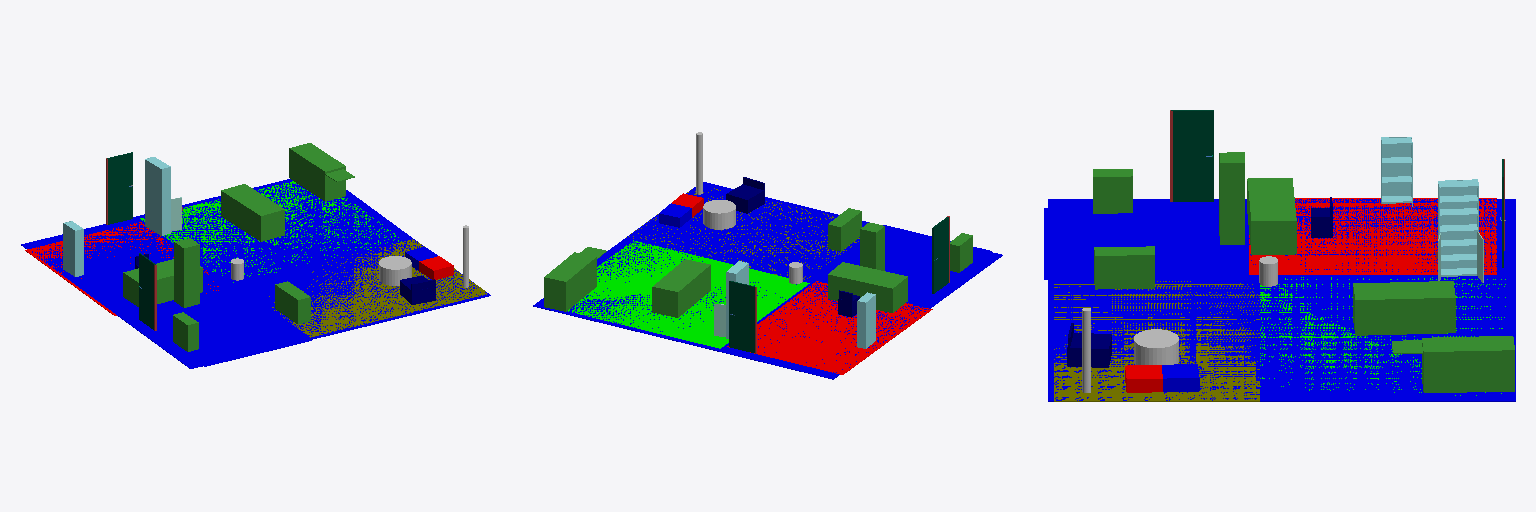
--- Facts derived from the render (not from the file) ---
3 views of the same robot in one strip: view 1: azimuth 30°, elevation 25°; view 2: azimuth 150°, elevation 25°; view 3: azimuth 270°, elevation 25° (orthographic).
Model iai-kitchen with 102 links and 101 joints (7 revolute, 94 fixed), rooted at urdf_main, posed all joints at 0.
Visible links, largest first — view 1: arena:arena:room_center_link, living_room:living_room:room_center_link, iai_kitchen:kitchen:room_center_link, dinner_table:dinner_table:table_center, kitchen_counter:kitchen_counter:table_center, coathanger:coathanger:coathanger_center, office:arena:door_center, desk:desk:table_center, office:office:room_center_link, tv_table:tv_table:table_center, shelf_hohc:kitchen_cabinet:shelf_back, iai_kitchen:arena:door_center (+6 smaller); view 2: arena:arena:room_center_link, iai_kitchen:kitchen:room_center_link, office:office:room_center_link, hallway:hallway:room_center_link, desk:desk:table_center, dinner_table:dinner_table:table_center, kitchen_counter:kitchen_counter:table_center, office:arena:door_center, iai_kitchen:arena:door_center, coathanger:coathanger:coathanger_center, tv_table:tv_table:table_center, coffee_table:coffee_table:table_center (+4 smaller); view 3: arena:arena:room_center_link, hallway:hallway:room_center_link, office:office:room_center_link, living_room:living_room:room_center_link, dinner_table:dinner_table:table_center, kitchen_counter:kitchen_counter:table_center, iai_kitchen:arena:door_center, desk:desk:table_center, tv_table:tv_table:table_center, coathanger:coathanger:coathanger_center, iai_kitchen:kitchen:room_center_link, hallway_cabinet:hallway_cabinet:table_center (+9 smaller).
Boxes of the visible links, x1,y1,x2,y2 form: arena:arena:room_center_link: (21, 179, 490, 368); living_room:living_room:room_center_link: (269, 239, 486, 337); iai_kitchen:kitchen:room_center_link: (140, 181, 401, 282); dinner_table:dinner_table:table_center: (221, 184, 284, 241); kitchen_counter:kitchen_counter:table_center: (289, 143, 345, 201); coathanger:coathanger:coathanger_center: (174, 238, 199, 307); office:arena:door_center: (107, 152, 132, 224); desk:desk:table_center: (123, 259, 202, 306); office:office:room_center_link: (25, 222, 218, 315); tv_table:tv_table:table_center: (275, 281, 310, 324); shelf_hohc:kitchen_cabinet:shelf_back: (145, 159, 161, 235); iai_kitchen:arena:door_center: (139, 253, 155, 329); arena:arena:room_center_link: (533, 182, 1002, 379); iai_kitchen:kitchen:room_center_link: (568, 240, 809, 348); office:office:room_center_link: (727, 281, 932, 374); hallway:hallway:room_center_link: (812, 225, 991, 303); desk:desk:table_center: (828, 262, 907, 312); dinner_table:dinner_table:table_center: (652, 259, 710, 317); kitchen_counter:kitchen_counter:table_center: (544, 252, 596, 311); office:arena:door_center: (729, 281, 754, 352); iai_kitchen:arena:door_center: (932, 217, 948, 293); coathanger:coathanger:coathanger_center: (860, 222, 884, 270); tv_table:tv_table:table_center: (828, 208, 861, 251); coffee_table:coffee_table:table_center: (703, 200, 735, 229); arena:arena:room_center_link: (1048, 199, 1515, 401); hallway:hallway:room_center_link: (1044, 208, 1244, 279); office:office:room_center_link: (1249, 198, 1496, 274); living_room:living_room:room_center_link: (1054, 281, 1259, 401); dinner_table:dinner_table:table_center: (1353, 281, 1455, 335); kitchen_counter:kitchen_counter:table_center: (1422, 336, 1514, 392); iai_kitchen:arena:door_center: (1171, 110, 1213, 201); desk:desk:table_center: (1247, 178, 1296, 254); tv_table:tv_table:table_center: (1094, 246, 1154, 289); coathanger:coathanger:coathanger_center: (1219, 152, 1244, 244); iai_kitchen:kitchen:room_center_link: (1260, 277, 1505, 395); hallway_cabinet:hallway_cabinet:table_center: (1093, 169, 1132, 213).
Size in the robot's own frame: 9.59 by 9.36 by 2.1 metres.
0 mesh visuals loaded from 3 distinct referenced files (none loaded); not drawn: 3 (reference not matched to a file when rendering).

The robot description file, URDF, robot "iai-kitchen":
<?xml version="1.0" ?>
<robot name="iai-kitchen" version="1.0">
  <material name="table_grey">
    <color rgba="0.255 0.62 0.223 1.0"/>
  </material>
  <material name="round_table_grey">
    <color rgba="0.8 0.8 0.8 1.0"/>
  </material>
  <material name="wall_pink">
    <color rgba="0.95 0.43 0.96 1.0"/>
  </material>
  <material name="shelf_blue">
    <color rgba="0.59 0.88 0.9 1.0"/>
  </material>
  <material name="shelf_door_green">
    <color rgba="0.64 0.87 0.82 1.0"/>
  </material>
  <material name="shelf_openable_handle_red">
    <color rgba="0.74 0.25 0.25 1.0"/>
  </material>
  <material name="shelf_hohc_handle_red">
    <color rgba="0.74 0.25 0.25 1.0"/>
  </material>
  <material name="door_green">
    <color rgba="0.0 0.31 0.22 1.0"/>
  </material>
  <material name="hinge_red">
    <color rgba="0.74 0.25 0.25 1.0"/>
  </material>
  <material name="handle_blue">
    <color rgba="0.3 0.5 0.78 1.0"/>
  </material>
  <material name="bucket_grey">
    <color rgba="0.8 0.8 0.8 1.0"/>
  </material>
  <material name="white">
    <color rgba="1.0 1.0 1.0 1.0"/>
  </material>
  <material name="orange">
    <color rgba="1.0 0.7 0.0 1.0"/>
  </material>
  <material name="handle_white">
    <color rgba="1.0 1.0 1.0 1.0"/>
  </material>
  <material name="bottom_white">
    <color rgba="1.0 1.0 1.0 1.0"/>
  </material>
  <material name="frame_wood">
    <color rgba="0.68 0.63 0.47 1.0"/>
  </material>
  <material name="handle_grey">
    <color rgba="0.7 0.7 0.7 1.0"/>
  </material>
  <material name="dishwasher_table_color">
    <color rgba="0.255 0.62 0.223 1.0"/>
  </material>
  <material name="dishwasher_robocup_table_color">
    <color rgba="0.255 0.62 0.223 1.0"/>
  </material>
  <material name="color_grey">
    <color rgba="0.8 0.8 0.8 1.0"/>
  </material>
  <material name="color_red">
    <color rgba="1.0 0.0 0.0 1.0"/>
  </material>
  <material name="color_blue">
    <color rgba="0.0 0.0 1.0 1.0"/>
  </material>
  <material name="simple_couch_color_grey">
    <color rgba="0.8 0.8 0.8 1.0"/>
  </material>
  <material name="simple_couch_color_red">
    <color rgba="1.0 0.0 0.0 1.0"/>
  </material>
  <material name="simple_couch_color_blue">
    <color rgba="0.0 0.0 1.0 1.0"/>
  </material>
  <material name="trashcan_color">
    <color rgba="0.8 0.8 0.8 1.0"/>
  </material>
  <material name="chair_color">
    <color rgba="0.0 0.0 0.5 1.0"/>
  </material>
  <material name="coathanger_color">
    <color rgba="0.255 0.62 0.223 1.0"/>
  </material>
  <material name="lamp_color">
    <color rgba="0.8 0.8 0.8 1.0"/>
  </material>
  <link name="tv_table:tv_table:table_center">
    <inertial>
      <origin xyz="0.0 0.0 0.0" rpy="0.0 0.0 0.0"/>
      <mass value="1.0"/>
      <inertia ixx="0.1" ixy="0.0" ixz="0.0" iyy="0.1" iyz="0.0" izz="0.1"/>
    </inertial>
    <visual>
      <origin xyz="0.0 0.0 -0.369" rpy="0.0 0.0 0.0"/>
      <geometry>
        <box size="0.412 1.2 0.738"/>
      </geometry>
      <material name="table_grey"/>
    </visual>
    <collision>
      <origin xyz="0.0 0.0 -0.369" rpy="0.0 0.0 0.0"/>
      <geometry>
        <box size="0.412 1.2 0.738"/>
      </geometry>
    </collision>
  </link>
  <link name="tv_table:tv_table:table_origin"/>
  <link name="tv_table:tv_table:table_front_edge_center"/>
  <joint name="tv_table:tv_table:table_origin_joint" type="fixed">
    <origin xyz="5.96 -0.24 0.0" rpy="0.0 0.0 3.17"/>
    <parent link="urdf_offset"/>
    <child link="tv_table:tv_table:table_origin"/>
  </joint>
  <joint name="tv_table:tv_table:center_joint" type="fixed">
    <origin xyz="0.206 0.6 0.738" rpy="0.0 0.0 0.0"/>
    <parent link="tv_table:tv_table:table_origin"/>
    <child link="tv_table:tv_table:table_center"/>
  </joint>
  <joint name="tv_table:tv_table:table_front_edge_center_joint" type="fixed">
    <origin xyz="0.0 0.6 0.738" rpy="0.0 0.0 0.0"/>
    <parent link="tv_table:tv_table:table_origin"/>
    <child link="tv_table:tv_table:table_front_edge_center"/>
  </joint>
  <link name="hallway_cabinet:hallway_cabinet:table_center">
    <inertial>
      <origin xyz="0.0 0.0 0.0" rpy="0.0 0.0 0.0"/>
      <mass value="1.0"/>
      <inertia ixx="0.1" ixy="0.0" ixz="0.0" iyy="0.1" iyz="0.0" izz="0.1"/>
    </inertial>
    <visual>
      <origin xyz="0.0 0.0 -0.404" rpy="0.0 0.0 0.0"/>
      <geometry>
        <box size="0.3503 0.795 0.808"/>
      </geometry>
      <material name="table_grey"/>
    </visual>
    <collision>
      <origin xyz="0.0 0.0 -0.404" rpy="0.0 0.0 0.0"/>
      <geometry>
        <box size="0.3503 0.795 0.808"/>
      </geometry>
    </collision>
  </link>
  <link name="hallway_cabinet:hallway_cabinet:table_origin"/>
  <link name="hallway_cabinet:hallway_cabinet:table_front_edge_center"/>
  <joint name="hallway_cabinet:hallway_cabinet:table_origin_joint" type="fixed">
    <origin xyz="2.41 -0.675 0.0" rpy="0.0 0.0 3.17"/>
    <parent link="urdf_offset"/>
    <child link="hallway_cabinet:hallway_cabinet:table_origin"/>
  </joint>
  <joint name="hallway_cabinet:hallway_cabinet:center_joint" type="fixed">
    <origin xyz="0.17515 0.3975 0.808" rpy="0.0 0.0 0.0"/>
    <parent link="hallway_cabinet:hallway_cabinet:table_origin"/>
    <child link="hallway_cabinet:hallway_cabinet:table_center"/>
  </joint>
  <joint name="hallway_cabinet:hallway_cabinet:table_front_edge_center_joint" type="fixed">
    <origin xyz="0.0 0.3975 0.808" rpy="0.0 0.0 0.0"/>
    <parent link="hallway_cabinet:hallway_cabinet:table_origin"/>
    <child link="hallway_cabinet:hallway_cabinet:table_front_edge_center"/>
  </joint>
  <link name="desk:desk:table_center">
    <inertial>
      <origin xyz="0.0 0.0 0.0" rpy="0.0 0.0 0.0"/>
      <mass value="1.0"/>
      <inertia ixx="0.1" ixy="0.0" ixz="0.0" iyy="0.1" iyz="0.0" izz="0.1"/>
    </inertial>
    <visual>
      <origin xyz="0.0 0.0 -0.3715" rpy="0.0 0.0 0.0"/>
      <geometry>
        <box size="0.901 2.017 0.743"/>
      </geometry>
      <material name="table_grey"/>
    </visual>
    <collision>
      <origin xyz="0.0 0.0 -0.3715" rpy="0.0 0.0 0.0"/>
      <geometry>
        <box size="0.901 2.017 0.743"/>
      </geometry>
    </collision>
  </link>
  <link name="desk:desk:table_origin"/>
  <link name="desk:desk:table_front_edge_center"/>
  <joint name="desk:desk:table_origin_joint" type="fixed">
    <origin xyz="2.33 2.49 0.0" rpy="0.0 0.0 -1.53"/>
    <parent link="urdf_offset"/>
    <child link="desk:desk:table_origin"/>
  </joint>
  <joint name="desk:desk:center_joint" type="fixed">
    <origin xyz="0.4505 1.0085 0.743" rpy="0.0 0.0 0.0"/>
    <parent link="desk:desk:table_origin"/>
    <child link="desk:desk:table_center"/>
  </joint>
  <joint name="desk:desk:table_front_edge_center_joint" type="fixed">
    <origin xyz="0.0 1.0085 0.743" rpy="0.0 0.0 0.0"/>
    <parent link="desk:desk:table_origin"/>
    <child link="desk:desk:table_front_edge_center"/>
  </joint>
  <link name="dinner_table:dinner_table:table_center">
    <inertial>
      <origin xyz="0.0 0.0 0.0" rpy="0.0 0.0 0.0"/>
      <mass value="1.0"/>
      <inertia ixx="0.1" ixy="0.0" ixz="0.0" iyy="0.1" iyz="0.0" izz="0.1"/>
    </inertial>
    <visual>
      <origin xyz="0.0 0.0 -0.39" rpy="0.0 0.0 0.0"/>
      <geometry>
        <box size="0.792 2.0 0.78"/>
      </geometry>
      <material name="table_grey"/>
    </visual>
    <collision>
      <origin xyz="0.0 0.0 -0.39" rpy="0.0 0.0 0.0"/>
      <geometry>
        <box size="0.792 2.0 0.78"/>
      </geometry>
    </collision>
  </link>
  <link name="dinner_table:dinner_table:table_origin"/>
  <link name="dinner_table:dinner_table:table_front_edge_center"/>
  <joint name="dinner_table:dinner_table:table_origin_joint" type="fixed">
    <origin xyz="7.38 3.69 0.0" rpy="0.0 0.0 0.06"/>
    <parent link="urdf_offset"/>
    <child link="dinner_table:dinner_table:table_origin"/>
  </joint>
  <joint name="dinner_table:dinner_table:center_joint" type="fixed">
    <origin xyz="0.396 1.0 0.78" rpy="0.0 0.0 0.0"/>
    <parent link="dinner_table:dinner_table:table_origin"/>
    <child link="dinner_table:dinner_table:table_center"/>
  </joint>
  <joint name="dinner_table:dinner_table:table_front_edge_center_joint" type="fixed">
    <origin xyz="0.0 1.0 0.78" rpy="0.0 0.0 0.0"/>
    <parent link="dinner_table:dinner_table:table_origin"/>
    <child link="dinner_table:dinner_table:table_front_edge_center"/>
  </joint>
  <link name="kitchen_counter:kitchen_counter:table_center">
    <inertial>
      <origin xyz="0.0 0.0 0.0" rpy="0.0 0.0 0.0"/>
      <mass value="1.0"/>
      <inertia ixx="0.1" ixy="0.0" ixz="0.0" iyy="0.1" iyz="0.0" izz="0.1"/>
    </inertial>
    <visual>
      <origin xyz="0.0 0.0 -0.4525" rpy="0.0 0.0 0.0"/>
      <geometry>
        <box size="0.68 1.82 0.905"/>
      </geometry>
      <material name="table_grey"/>
    </visual>
    <collision>
      <origin xyz="0.0 0.0 -0.4525" rpy="0.0 0.0 0.0"/>
      <geometry>
        <box size="0.68 1.82 0.905"/>
      </geometry>
    </collision>
  </link>
  <link name="kitchen_counter:kitchen_counter:table_origin"/>
  <link name="kitchen_counter:kitchen_counter:table_front_edge_center"/>
  <joint name="kitchen_counter:kitchen_counter:table_origin_joint" type="fixed">
    <origin xyz="10.2 5.06 0.0" rpy="0.0 0.0 0.05"/>
    <parent link="urdf_offset"/>
    <child link="kitchen_counter:kitchen_counter:table_origin"/>
  </joint>
  <joint name="kitchen_counter:kitchen_counter:center_joint" type="fixed">
    <origin xyz="0.34 0.91 0.905" rpy="0.0 0.0 0.0"/>
    <parent link="kitchen_counter:kitchen_counter:table_origin"/>
    <child link="kitchen_counter:kitchen_counter:table_center"/>
  </joint>
  <joint name="kitchen_counter:kitchen_counter:table_front_edge_center_joint" type="fixed">
    <origin xyz="0.0 0.91 0.905" rpy="0.0 0.0 0.0"/>
    <parent link="kitchen_counter:kitchen_counter:table_origin"/>
    <child link="kitchen_counter:kitchen_counter:table_front_edge_center"/>
  </joint>
  <link name="suturo_couch:couch:place1"/>
  <link name="suturo_couch:couch:place2">
    <inertial>
      <origin xyz="0.0 0.0 0.0" rpy="0.0 0.0 0.0"/>
      <mass value="1.0"/>
      <inertia ixx="0.1" ixy="0.0" ixz="0.0" iyy="0.1" iyz="0.0" izz="0.1"/>
    </inertial>
    <visual>
      <origin xyz="0.0 0.0 0.0" rpy="0.0 0.0 0.0"/>
      <geometry>
        <box size="0.65 0.725 0.3"/>
      </geometry>
      <material name="color_red"/>
    </visual>
    <collision>
      <origin xyz="0.0 0.0 0.0" rpy="0.0 0.0 0.0"/>
      <geometry>
        <box size="0.65 0.725 0.3"/>
      </geometry>
    </collision>
  </link>
  <link name="suturo_couch:couch:place3">
    <inertial>
      <origin xyz="0.0 0.0 0.0" rpy="0.0 0.0 0.0"/>
      <mass value="1.0"/>
      <inertia ixx="0.1" ixy="0.0" ixz="0.0" iyy="0.1" iyz="0.0" izz="0.1"/>
    </inertial>
    <visual>
      <origin xyz="0.0 0.0 0.0" rpy="0.0 0.0 0.0"/>
      <geometry>
        <box size="0.65 0.725 0.3"/>
      </geometry>
      <material name="color_blue"/>
    </visual>
    <collision>
      <origin xyz="0.0 0.0 0.0" rpy="0.0 0.0 0.0"/>
      <geometry>
        <box size="0.65 0.725 0.3"/>
      </geometry>
    </collision>
  </link>
  <joint name="suturo_couch:couch:couch_origin_joint" type="fixed">
    <origin xyz="10.5 -0.1 0.0" rpy="0.0 0.0 0.05"/>
    <parent link="urdf_offset"/>
    <child link="suturo_couch:couch:place1"/>
  </joint>
  <joint name="suturo_couch:couch:couch_left_joint" type="fixed">
    <origin xyz="0.0 -0.3625 0.15" rpy="0.0 0.0 0.0"/>
    <parent link="suturo_couch:couch:place1"/>
    <child link="suturo_couch:couch:place2"/>
  </joint>
  <joint name="suturo_couch:couch:couch_right_joint" type="fixed">
    <origin xyz="0.0 0.3625 0.15" rpy="0.0 0.0 0.0"/>
    <parent link="suturo_couch:couch:place1"/>
    <child link="suturo_couch:couch:place3"/>
  </joint>
  <link name="coffee_table:coffee_table:table_center">
    <inertial>
      <origin xyz="0.0 0.0 0.0" rpy="0.0 0.0 0.0"/>
      <mass value="1.0"/>
      <inertia ixx="0.1" ixy="0.0" ixz="0.0" iyy="0.1" iyz="0.0" izz="0.1"/>
    </inertial>
    <visual>
      <origin xyz="0.0 0.0 -0.245" rpy="0.0 0.0 0.0"/>
      <geometry>
        <cylinder radius="0.45" length="0.49"/>
      </geometry>
      <material name="round_table_grey"/>
    </visual>
    <collision>
      <origin xyz="0.0 0.0 -0.245" rpy="0.0 0.0 0.0"/>
      <geometry>
        <cylinder radius="0.45" length="0.49"/>
      </geometry>
    </collision>
  </link>
  <link name="coffee_table:coffee_table:table_origin"/>
  <link name="coffee_table:coffee_table:table_front_edge_center"/>
  <joint name="coffee_table:coffee_table:table_origin_joint" type="fixed">
    <origin xyz="8.91 -0.24 0.0" rpy="0.0 0.0 0.05"/>
    <parent link="urdf_offset"/>
    <child link="coffee_table:coffee_table:table_origin"/>
  </joint>
  <joint name="coffee_table:coffee_table:center_joint" type="fixed">
    <origin xyz="0.45 0.0 0.49" rpy="0.0 0.0 0.0"/>
    <parent link="coffee_table:coffee_table:table_origin"/>
    <child link="coffee_table:coffee_table:table_center"/>
  </joint>
  <joint name="coffee_table:coffee_table:table_front_edge_center_joint" type="fixed">
    <origin xyz="0.0 0.0 0.49" rpy="0.0 0.0 0.0"/>
    <parent link="coffee_table:coffee_table:table_origin"/>
    <child link="coffee_table:coffee_table:table_front_edge_center"/>
  </joint>
  <link name="shelf:shelf:shelf_origin"/>
  <link name="shelf:shelf:shelf_center"/>
  <link name="shelf:shelf:shelf_base_center"/>
  <joint name="shelf:shelf:shelf_origin_joint" type="fixed">
    <origin xyz="2.09 4.87 0.0" rpy="0.0 0.0 3.2"/>
    <parent link="urdf_offset"/>
    <child link="shelf:shelf:shelf_origin"/>
  </joint>
  <joint name="shelf:shelf:shelf_center_joint" type="fixed">
    <origin xyz="0.1375 0.3 0.7" rpy="0.0 0.0 0.0"/>
    <parent link="shelf:shelf:shelf_origin"/>
    <child link="shelf:shelf:shelf_center"/>
  </joint>
  <joint name="shelf:shelf:shelf_base_center_joint" type="fixed">
    <origin xyz="0.1375 0.3 0.0" rpy="0.0 0.0 0.0"/>
    <parent link="shelf:shelf:shelf_origin"/>
    <child link="shelf:shelf:shelf_base_center"/>
  </joint>
  <link name="shelf:shelf:shelf_back">
    <inertial>
      <origin xyz="0.0 0.0 0.0" rpy="0.0 0.0 0.0"/>
      <mass value="1.0"/>
      <inertia ixx="0.1" ixy="0.0" ixz="0.0" iyy="0.1" iyz="0.0" izz="0.1"/>
    </inertial>
    <visual>
      <origin xyz="0.0 0.0 0.0" rpy="0.0 0.0 0.0"/>
      <geometry>
        <box size="0.01 0.6 1.4"/>
      </geometry>
      <material name="shelf_blue"/>
    </visual>
    <collision>
      <origin xyz="0.0 0.0 0.0" rpy="0.0 0.0 0.0"/>
      <geometry>
        <box size="0.01 0.6 1.4"/>
      </geometry>
    </collision>
  </link>
  <joint name="shelf:shelf:shelf_back:joint" type="fixed">
    <origin xyz="0.275 0.3 0.7" rpy="0.0 0.0 0.0"/>
    <parent link="shelf:shelf:shelf_origin"/>
    <child link="shelf:shelf:shelf_back"/>
  </joint>
  <link name="shelf:shelf:shelf_right_side">
    <inertial>
      <origin xyz="0.0 0.0 0.0" rpy="0.0 0.0 0.0"/>
      <mass value="1.0"/>
      <inertia ixx="0.1" ixy="0.0" ixz="0.0" iyy="0.1" iyz="0.0" izz="0.1"/>
    </inertial>
    <visual>
      <origin xyz="0.0 0.0 0.0" rpy="0.0 0.0 0.0"/>
      <geometry>
        <box size="0.275 0.01 1.4"/>
      </geometry>
      <material name="shelf_blue"/>
    </visual>
    <collision>
      <origin xyz="0.0 0.0 0.0" rpy="0.0 0.0 0.0"/>
      <geometry>
        <box size="0.275 0.01 1.4"/>
      </geometry>
    </collision>
  </link>
  <joint name="shelf:shelf:shelf_right_side:joint" type="fixed">
    <origin xyz="0.1375 0.0 0.7" rpy="0.0 0.0 0.0"/>
    <parent link="shelf:shelf:shelf_origin"/>
    <child link="shelf:shelf:shelf_right_side"/>
  </joint>
  <link name="shelf:shelf:shelf_left_side">
    <inertial>
      <origin xyz="0.0 0.0 0.0" rpy="0.0 0.0 0.0"/>
      <mass value="1.0"/>
      <inertia ixx="0.1" ixy="0.0" ixz="0.0" iyy="0.1" iyz="0.0" izz="0.1"/>
    </inertial>
    <visual>
      <origin xyz="0.0 0.0 0.0" rpy="0.0 0.0 0.0"/>
      <geometry>
        <box size="0.275 0.01 1.4"/>
      </geometry>
      <material name="shelf_blue"/>
    </visual>
    <collision>
      <origin xyz="0.0 0.0 0.0" rpy="0.0 0.0 0.0"/>
      <geometry>
        <box size="0.275 0.01 1.4"/>
      </geometry>
    </collision>
  </link>
  <joint name="shelf:shelf:shelf_left_side:joint" type="fixed">
    <origin xyz="0.1375 0.6 0.7" rpy="0.0 0.0 0.0"/>
    <parent link="shelf:shelf:shelf_origin"/>
    <child link="shelf:shelf:shelf_left_side"/>
  </joint>
  <link name="shelf:shelf:shelf_floor_0">
    <inertial>
      <origin xyz="0.0 0.0 0.0" rpy="0.0 0.0 0.0"/>
      <mass value="1.0"/>
      <inertia ixx="0.1" ixy="0.0" ixz="0.0" iyy="0.1" iyz="0.0" izz="0.1"/>
    </inertial>
    <visual>
      <origin xyz="0.0 0.0 -0.02" rpy="0.0 0.0 0.0"/>
      <geometry>
        <box size="0.275 0.6 0.04"/>
      </geometry>
      <material name="shelf_blue"/>
    </visual>
    <collision>
      <origin xyz="0.0 0.0 -0.02" rpy="0.0 0.0 0.0"/>
      <geometry>
        <box size="0.275 0.6 0.04"/>
      </geometry>
    </collision>
  </link>
  <joint name="shelf:shelf:shelf_floor_0:joint" type="fixed">
    <origin xyz="0.0 0.0 0.115" rpy="0.0 0.0 0.0"/>
    <parent link="shelf:shelf:shelf_base_center"/>
    <child link="shelf:shelf:shelf_floor_0"/>
  </joint>
  <link name="shelf:shelf:shelf_floor_1">
    <inertial>
      <origin xyz="0.0 0.0 0.0" rpy="0.0 0.0 0.0"/>
      <mass value="1.0"/>
      <inertia ixx="0.1" ixy="0.0" ixz="0.0" iyy="0.1" iyz="0.0" izz="0.1"/>
    </inertial>
    <visual>
      <origin xyz="0.0 0.0 -0.02" rpy="0.0 0.0 0.0"/>
      <geometry>
        <box size="0.275 0.6 0.04"/>
      </geometry>
      <material name="shelf_blue"/>
    </visual>
    <collision>
      <origin xyz="0.0 0.0 -0.02" rpy="0.0 0.0 0.0"/>
      <geometry>
        <box size="0.275 0.6 0.04"/>
      </geometry>
    </collision>
  </link>
  <joint name="shelf:shelf:shelf_floor_1:joint" type="fixed">
    <origin xyz="0.0 0.0 0.54" rpy="0.0 0.0 0.0"/>
    <parent link="shelf:shelf:shelf_base_center"/>
    <child link="shelf:shelf:shelf_floor_1"/>
  </joint>
  <link name="shelf:shelf:shelf_floor_2">
    <inertial>
      <origin xyz="0.0 0.0 0.0" rpy="0.0 0.0 0.0"/>
      <mass value="1.0"/>
      <inertia ixx="0.1" ixy="0.0" ixz="0.0" iyy="0.1" iyz="0.0" izz="0.1"/>
    </inertial>
    <visual>
      <origin xyz="0.0 0.0 -0.02" rpy="0.0 0.0 0.0"/>
      <geometry>
        <box size="0.275 0.6 0.04"/>
      </geometry>
      <material name="shelf_blue"/>
    </visual>
    <collision>
      <origin xyz="0.0 0.0 -0.02" rpy="0.0 0.0 0.0"/>
      <geometry>
        <box size="0.275 0.6 0.04"/>
      </geometry>
    </collision>
  </link>
  <joint name="shelf:shelf:shelf_floor_2:joint" type="fixed">
    <origin xyz="0.0 0.0 0.96" rpy="0.0 0.0 0.0"/>
    <parent link="shelf:shelf:shelf_base_center"/>
    <child link="shelf:shelf:shelf_floor_2"/>
  </joint>
  <link name="shelf:shelf:shelf_floor_3">
    <inertial>
      <origin xyz="0.0 0.0 0.0" rpy="0.0 0.0 0.0"/>
      <mass value="1.0"/>
      <inertia ixx="0.1" ixy="0.0" ixz="0.0" iyy="0.1" iyz="0.0" izz="0.1"/>
    </inertial>
    <visual>
      <origin xyz="0.0 0.0 -0.02" rpy="0.0 0.0 0.0"/>
      <geometry>
        <box size="0.275 0.6 0.04"/>
      </geometry>
      <material name="shelf_blue"/>
    </visual>
    <collision>
      <origin xyz="0.0 0.0 -0.02" rpy="0.0 0.0 0.0"/>
      <geometry>
        <box size="0.275 0.6 0.04"/>
      </geometry>
    </collision>
  </link>
  <joint name="shelf:shelf:shelf_floor_3:joint" type="fixed">
    <origin xyz="0.0 0.0 1.39" rpy="0.0 0.0 0.0"/>
    <parent link="shelf:shelf:shelf_base_center"/>
    <child link="shelf:shelf:shelf_floor_3"/>
  </joint>
  <joint name="world_hallway:hallway:room_joint" type="fixed">
    <origin xyz="3.75 -0.446 -0.05" rpy="0.0 0.0 0.0"/>
    <parent link="urdf_offset"/>
    <child link="hallway:hallway:room_center_link"/>
  </joint>
  <link name="hallway:hallway:room_center_link">
    <inertial>
      <origin xyz="0.0 0.0 0.0" rpy="0.0 0.0 0.0"/>
      <mass value="1.0"/>
      <inertia ixx="0.1" ixy="0.0" ixz="0.0" iyy="0.1" iyz="0.0" izz="0.1"/>
    </inertial>
    <visual>
      <geometry>
        <box size="3.39 3.99 0.01"/>
      </geometry>
      <material name="hallway:hallway:color">
        <color rgba="0.0 0.0 1.0 0.1"/>
      </material>
    </visual>
    <collision>
      <geometry>
        <box size="3.39 3.99 0.01"/>
      </geometry>
    </collision>
  </link>
  <joint name="room_hallway_entry:entry:connection_joint" type="fixed">
    <origin xyz="-1.3399999999999999 0.946 0.0" rpy="0.0 0.0 0.0"/>
    <parent link="hallway:hallway:room_center_link"/>
    <child link="hallway_entry:entry:link"/>
  </joint>
  <link name="hallway_entry:entry:link"/>
  <joint name="room_hallway_living_room_exit:exit:connection_joint" type="fixed">
    <origin xyz="1.7800000000000002 0.666 0.0" rpy="0.0 0.0 0.0"/>
    <parent link="hallway:hallway:room_center_link"/>
    <child link="hallway_living_room_exit:exit:link"/>
  </joint>
  <link name="hallway_living_room_exit:exit:link"/>
  <joint name="room_hallway_office_exit:exit:connection_joint" type="fixed">
    <origin xyz="1.17 2.106 0.0" rpy="0.0 0.0 0.0"/>
    <parent link="hallway:hallway:room_center_link"/>
    <child link="hallway_office_exit:exit:link"/>
  </joint>
  <link name="hallway_office_exit:exit:link"/>
  <joint name="world_living_room:living_room:room_joint" type="fixed">
    <origin xyz="8.33 -0.2 -0.05" rpy="0.0 0.0 0.0"/>
    <parent link="urdf_offset"/>
    <child link="living_room:living_room:room_center_link"/>
  </joint>
  <link name="living_room:living_room:room_center_link">
    <inertial>
      <origin xyz="0.0 0.0 0.0" rpy="0.0 0.0 0.0"/>
      <mass value="1.0"/>
      <inertia ixx="0.1" ixy="0.0" ixz="0.0" iyy="0.1" iyz="0.0" izz="0.1"/>
    </inertial>
    <visual>
      <geometry>
        <box size="5.65 4.1 0.01"/>
      </geometry>
      <material name="living_room:living_room:color">
        <color rgba="0.5 0.5 0.0 0.1"/>
      </material>
    </visual>
    <collision>
      <geometry>
        <box size="5.65 4.1 0.01"/>
      </geometry>
    </collision>
  </link>
  <joint name="room_living_room_hallway_entry_exit:entry_exit:connection_joint" type="fixed">
    <origin xyz="-2.8 0.42000000000000004 0.0" rpy="0.0 0.0 0.0"/>
    <parent link="living_room:living_room:room_center_link"/>
    <child link="living_room_hallway_entry_exit:entry_exit:link"/>
  </joint>
  <link name="living_room_hallway_entry_exit:entry_exit:link"/>
  <joint name="room_living_room_kitchen_entry_exit:entry_exit:connection_joint" type="fixed">
    <origin xyz="0.4800000000000004 2.1 0.0" rpy="0.0 0.0 0.0"/>
    <parent link="living_room:living_room:room_center_link"/>
    <child link="living_room_kitchen_entry_exit:entry_exit:link"/>
  </joint>
  <link name="living_room_kitchen_entry_exit:entry_exit:link"/>
  <joint name="world_iai_kitchen:kitchen:room_joint" type="fixed">
    <origin xyz="8.1 4.3 -0.05" rpy="0.0 0.0 0.0"/>
    <parent link="urdf_offset"/>
    <child link="iai_kitchen:kitchen:room_center_link"/>
  </joint>
  <link name="iai_kitchen:kitchen:room_center_link">
    <inertial>
      <origin xyz="0.0 0.0 0.0" rpy="0.0 0.0 0.0"/>
      <mass value="1.0"/>
      <inertia ixx="0.1" ixy="0.0" ixz="0.0" iyy="0.1" iyz="0.0" izz="0.1"/>
    </inertial>
    <visual>
      <geometry>
        <box size="5.57 4.9 0.01"/>
      </geometry>
      <material name="iai_kitchen:kitchen:color">
        <color rgba="0.0 1.0 0.0 0.1"/>
      </material>
    </visual>
    <collision>
      <geometry>
        <box size="5.57 4.9 0.01"/>
      </geometry>
    </collision>
  </link>
  <joint name="room_kitchen_living_room_entry_exit:entry_exit:connection_joint" type="fixed">
    <origin xyz="0.7100000000000009 -4.08 0.0" rpy="0.0 0.0 0.0"/>
    <parent link="iai_kitchen:kitchen:room_center_link"/>
    <child link="kitchen_living_room_entry_exit:entry_exit:link"/>
  </joint>
  <link name="kitchen_living_room_entry_exit:entry_exit:link"/>
  <joint name="room_kitchen_office_entry_exit:entry_exit:connection_joint" type="fixed">
    <origin xyz="-2.76 -0.7199999999999998 0.0" rpy="0.0 0.0 0.0"/>
    <parent link="iai_kitchen:kitchen:room_center_link"/>
    <child link="kitchen_office_entry_exit:entry_exit:link"/>
  </joint>
  <link name="kitchen_office_entry_exit:entry_exit:link"/>
  <joint name="world_office:office:room_joint" type="fixed">
    <origin xyz="3.4 4.09 -0.05" rpy="0.0 0.0 0.0"/>
    <parent link="urdf_offset"/>
    <child link="office:office:room_center_link"/>
  </joint>
  <link name="office:office:room_center_link">
    <inertial>
      <origin xyz="0.0 0.0 0.0" rpy="0.0 0.0 0.0"/>
      <mass value="1.0"/>
      <inertia ixx="0.1" ixy="0.0" ixz="0.0" iyy="0.1" iyz="0.0" izz="0.1"/>
    </inertial>
    <visual>
      <geometry>
        <box size="3.66 4.92 0.01"/>
      </geometry>
      <material name="office:office:color">
        <color rgba="1.0 0.0 0.0 0.1"/>
      </material>
    </visual>
    <collision>
      <geometry>
        <box size="3.66 4.92 0.01"/>
      </geometry>
    </collision>
  </link>
  <joint name="room_office_living_room_entry_exit:entry_exit:connection_joint" type="fixed">
    <origin xyz="1.94 -0.5099999999999998 0.0" rpy="0.0 0.0 0.0"/>
    <parent link="office:office:room_center_link"/>
    <child link="office_living_room_entry_exit:entry_exit:link"/>
  </joint>
  <link name="office_living_room_entry_exit:entry_exit:link"/>
  <joint name="room_office_hallway_entry_exit:exit:connection_joint" type="fixed">
    <origin xyz="1.52 -2.4299999999999997 0.0" rpy="0.0 0.0 0.0"/>
    <parent link="office:office:room_center_link"/>
    <child link="office_hallway_entry_exit:exit:link"/>
  </joint>
  <link name="office_hallway_entry_exit:exit:link"/>
  <joint name="room_office_exit:exit:connection_joint" type="fixed">
    <origin xyz="1.3199999999999998 3.38 0.0" rpy="0.0 0.0 0.0"/>
    <parent link="office:office:room_center_link"/>
    <child link="office_exit:exit:link"/>
  </joint>
  <link name="office_exit:exit:link"/>
  <joint name="world_arena:arena:room_joint" type="fixed">
    <origin xyz="6.4 2.27 -0.05" rpy="0.0 0.0 0.0"/>
    <parent link="urdf_offset"/>
    <child link="arena:arena:room_center_link"/>
  </joint>
  <link name="arena:arena:room_center_link">
    <inertial>
      <origin xyz="0.0 0.0 0.0" rpy="0.0 0.0 0.0"/>
      <mass value="1.0"/>
      <inertia ixx="0.1" ixy="0.0" ixz="0.0" iyy="0.1" iyz="0.0" izz="0.1"/>
    </inertial>
    <visual>
      <geometry>
        <box size="9.5 9.3 0.01"/>
      </geometry>
      <material name="arena:arena:color">
        <color rgba="0.0 0.0 1.0 0.1"/>
      </material>
    </visual>
    <collision>
      <geometry>
        <box size="9.5 9.3 0.01"/>
      </geometry>
    </collision>
  </link>
  <joint name="room_arena_entry:entry:connection_joint" type="fixed">
    <origin xyz="-3.99 -1.77 0.0" rpy="0.0 0.0 0.0"/>
    <parent link="arena:arena:room_center_link"/>
    <child link="arena_entry:entry:link"/>
  </joint>
  <link name="arena_entry:entry:link"/>
  <joint name="room_arena_exit:exit:connection_joint" type="fixed">
    <origin xyz="-1.6800000000000006 5.199999999999999 0.0" rpy="0.0 0.0 0.0"/>
    <parent link="arena:arena:room_center_link"/>
    <child link="arena_exit:exit:link"/>
  </joint>
  <link name="arena_exit:exit:link"/>
  <link name="iai_kitchen:arena:door_center">
    <inertial>
      <origin xyz="0.0 0.0 0.0" rpy="0.0 0.0 0.0"/>
      <mass value="1.0"/>
      <inertia ixx="0.1" ixy="0.0" ixz="0.0" iyy="0.1" iyz="0.0" izz="0.1"/>
    </inertial>
    <visual>
      <origin xyz="0.4275 0.0 0.0" rpy="0.0 0.0 0.0"/>
      <geometry>
        <box size="0.855 0.038 2.0"/>
      </geometry>
      <material name="door_green"/>
    </visual>
    <collision>
      <origin xyz="0.4275 0.0 0.0" rpy="0.0 0.0 0.0"/>
      <geometry>
        <box size="0.855 0.038 2.0"/>
      </geometry>
    </collision>
  </link>
  <link name="iai_kitchen:arena:door_hinge">
    <inertial>
      <origin xyz="0.0 0.0 0.0" rpy="0.0 0.0 0.0"/>
      <mass value="1.0"/>
      <inertia ixx="0.1" ixy="0.0" ixz="0.0" iyy="0.1" iyz="0.0" izz="0.1"/>
    </inertial>
    <visual>
      <origin xyz="0.0 0.0 0.0" rpy="0.0 0.0 0.0"/>
      <geometry>
        <box size="0.05 0.05 2.0"/>
      </geometry>
      <material name="hinge_red"/>
    </visual>
    <collision>
      <origin xyz="0.0 0.0 0.0" rpy="0.0 0.0 0.0"/>
      <geometry>
        <box size="0.05 0.05 2.0"/>
      </geometry>
    </collision>
  </link>
  <link name="iai_kitchen:arena:door_handle_link">
    <inertial>
      <origin xyz="0.0 0.0 0.0" rpy="0.0 0.0 0.0"/>
      <mass value="1.0"/>
      <inertia ixx="0.1" ixy="0.0" ixz="0.0" iyy="0.1" iyz="0.0" izz="0.1"/>
    </inertial>
    <visual>
      <origin xyz="0.0 0.0 0.0" rpy="0.0 0.0 0.0"/>
      <geometry>
        <cylinder radius="0.013" length="0.1"/>
      </geometry>
    </visual>
    <collision>
      <origin xyz="0.0 0.0 0.0" rpy="0.0 0.0 0.0"/>
      <geometry>
        <cylinder radius="0.013" length="0.1"/>
      </geometry>
    </collision>
  </link>
  <gazebo reference="iai_kitchen:arena:door_handle_link">
    <turnGravityOff>true</turnGravityOff>
  </gazebo>
  <link name="iai_kitchen:arena:door_handle_outside">
    <inertial>
      <origin xyz="0.0 0.0 0.0" rpy="0.0 0.0 0.0"/>
      <mass value="1.0"/>
      <inertia ixx="0.1" ixy="0.0" ixz="0.0" iyy="0.1" iyz="0.0" izz="0.1"/>
    </inertial>
    <visual>
      <origin xyz="0.0 0.0 0.0" rpy="0.0 0.0 0.0"/>
      <geometry>
        <box size="0.015 0.15 0.01"/>
      </geometry>
      <material name="handle_blue"/>
    </visual>
    <collision>
      <origin xyz="0.0 0.0 0.0" rpy="0.0 0.0 0.0"/>
      <geometry>
        <box size="0.015 0.15 0.01"/>
      </geometry>
    </collision>
  </link>
  <gazebo reference="iai_kitchen:arena:door_handle_outside">
    <turnGravityOff>true</turnGravityOff>
  </gazebo>
  <link name="iai_kitchen:arena:door_handle_inside">
    <inertial>
      <origin xyz="0.0 0.0 0.0" rpy="0.0 0.0 0.0"/>
      <mass value="1.0"/>
      <inertia ixx="0.1" ixy="0.0" ixz="0.0" iyy="0.1" iyz="0.0" izz="0.1"/>
    </inertial>
    <visual>
      <origin xyz="0.0 0.0 0.0" rpy="0.0 0.0 0.0"/>
      <geometry>
        <box size="0.012 0.12 0.01"/>
      </geometry>
      <material name="handle_blue"/>
    </visual>
    <collision>
      <origin xyz="0.0 0.0 0.0" rpy="0.0 0.0 0.0"/>
      <geometry>
        <box size="0.015 0.15 0.01"/>
      </geometry>
    </collision>
  </link>
  <gazebo reference="iai_kitchen:arena:door_handle_inside">
    <turnGravityOff>true</turnGravityOff>
  </gazebo>
  <joint name="iai_kitchen:arena:door_origin_revolute_joint" type="revolute">
    <origin xyz="0.0 0.0 0.0" rpy="0.0 0.0 1.57"/>
    <axis xyz="0.0 0.0 1.0"/>
    <parent link="iai_kitchen:arena:door_hinge"/>
    <child link="iai_kitchen:arena:door_center"/>
    <limit effort="100.0" lower="-1.4" upper="0.0" velocity="10.0"/>
  </joint>
  <joint name="iai_kitchen:arena:door_hinge_joint" type="fixed">
    <origin xyz="1.961 0.08 1.04" rpy="0.0 0.0 0.0"/>
    <axis xyz="0.0 0.0 0.0"/>
    <parent link="urdf_offset"/>
    <child link="iai_kitchen:arena:door_hinge"/>
    <limit effort="1.0" lower="0.0" upper="1.5708" velocity="1.0"/>
  </joint>
  <joint name="iai_kitchen:arena:door_handle_joint" type="revolute">
    <origin xyz="0.82 0.0 0.02" rpy="1.5707963267948966 0.0 0.0"/>
    <axis xyz="0.0 0.0 1.0"/>
    <parent link="iai_kitchen:arena:door_center"/>
    <child link="iai_kitchen:arena:door_handle_link"/>
    <limit effort="1.0" lower="0.0" upper="0.6283185307179586" velocity="1.0"/>
  </joint>
  <joint name="iai_kitchen:arena:door_handle_inside_joint" type="fixed">
    <origin xyz="-0.069 0.0 0.06" rpy="0.0 0.0 1.5707963267948966"/>
    <parent link="iai_kitchen:arena:door_handle_link"/>
    <child link="iai_kitchen:arena:door_handle_inside"/>
  </joint>
  <joint name="iai_kitchen:arena:door_handle_outside_joint" type="fixed">
    <origin xyz="-0.075 0.0 -0.05" rpy="0.0 0.0 -1.5707963267948966"/>
    <parent link="iai_kitchen:arena:door_handle_link"/>
    <child link="iai_kitchen:arena:door_handle_outside"/>
  </joint>
  <link name="office:arena:door_center">
    <inertial>
      <origin xyz="0.0 0.0 0.0" rpy="0.0 0.0 0.0"/>
      <mass value="1.0"/>
      <inertia ixx="0.1" ixy="0.0" ixz="0.0" iyy="0.1" iyz="0.0" izz="0.1"/>
    </inertial>
    <visual>
      <origin xyz="0.41 0.0 0.0" rpy="0.0 0.0 0.0"/>
      <geometry>
        <box size="0.82 0.04 2.0"/>
      </geometry>
      <material name="door_green"/>
    </visual>
    <collision>
      <origin xyz="0.41 0.0 0.0" rpy="0.0 0.0 0.0"/>
      <geometry>
        <box size="0.82 0.04 2.0"/>
      </geometry>
    </collision>
  </link>
  <link name="office:arena:door_hinge">
    <inertial>
      <origin xyz="0.0 0.0 0.0" rpy="0.0 0.0 0.0"/>
      <mass value="1.0"/>
      <inertia ixx="0.1" ixy="0.0" ixz="0.0" iyy="0.1" iyz="0.0" izz="0.1"/>
    </inertial>
    <visual>
      <origin xyz="0.0 0.0 0.0" rpy="0.0 0.0 0.0"/>
      <geometry>
        <box size="0.05 0.05 2.0"/>
      </geometry>
      <material name="hinge_red"/>
    </visual>
    <collision>
      <origin xyz="0.0 0.0 0.0" rpy="0.0 0.0 0.0"/>
      <geometry>
        <box size="0.05 0.05 2.0"/>
      </geometry>
    </collision>
  </link>
  <link name="office:arena:door_handle_link">
    <inertial>
      <origin xyz="0.0 0.0 0.0" rpy="0.0 0.0 0.0"/>
      <mass value="1.0"/>
      <inertia ixx="0.1" ixy="0.0" ixz="0.0" iyy="0.1" iyz="0.0" izz="0.1"/>
    </inertial>
    <visual>
      <origin xyz="0.0 0.0 0.0" rpy="0.0 0.0 0.0"/>
      <geometry>
        <cylinder radius="0.013" length="0.1"/>
      </geometry>
    </visual>
    <collision>
      <origin xyz="0.0 0.0 0.0" rpy="0.0 0.0 0.0"/>
      <geometry>
        <cylinder radius="0.013" length="0.1"/>
      </geometry>
    </collision>
  </link>
  <gazebo reference="office:arena:door_handle_link">
    <turnGravityOff>true</turnGravityOff>
  </gazebo>
  <link name="office:arena:door_handle_outside">
    <inertial>
      <origin xyz="0.0 0.0 0.0" rpy="0.0 0.0 0.0"/>
      <mass value="1.0"/>
      <inertia ixx="0.1" ixy="0.0" ixz="0.0" iyy="0.1" iyz="0.0" izz="0.1"/>
    </inertial>
    <visual>
      <origin xyz="0.0 0.0 0.0" rpy="0.0 0.0 0.0"/>
      <geometry>
        <box size="0.015 0.15 0.01"/>
      </geometry>
      <material name="handle_blue"/>
    </visual>
    <collision>
      <origin xyz="0.0 0.0 0.0" rpy="0.0 0.0 0.0"/>
      <geometry>
        <box size="0.015 0.15 0.01"/>
      </geometry>
    </collision>
  </link>
  <gazebo reference="office:arena:door_handle_outside">
    <turnGravityOff>true</turnGravityOff>
  </gazebo>
  <link name="office:arena:door_handle_inside">
    <inertial>
      <origin xyz="0.0 0.0 0.0" rpy="0.0 0.0 0.0"/>
      <mass value="1.0"/>
      <inertia ixx="0.1" ixy="0.0" ixz="0.0" iyy="0.1" iyz="0.0" izz="0.1"/>
    </inertial>
    <visual>
      <origin xyz="0.0 0.0 0.0" rpy="0.0 0.0 0.0"/>
      <geometry>
        <box size="0.012 0.12 0.01"/>
      </geometry>
      <material name="handle_blue"/>
    </visual>
    <collision>
      <origin xyz="0.0 0.0 0.0" rpy="0.0 0.0 0.0"/>
      <geometry>
        <box size="0.015 0.15 0.01"/>
      </geometry>
    </collision>
  </link>
  <gazebo reference="office:arena:door_handle_inside">
    <turnGravityOff>true</turnGravityOff>
  </gazebo>
  <joint name="office:arena:door_origin_revolute_joint" type="revolute">
    <origin xyz="0.0 0.0 0.0" rpy="0.0 0.0 0.0"/>
    <axis xyz="0.0 0.0 1.0"/>
    <parent link="office:arena:door_hinge"/>
    <child link="office:arena:door_center"/>
    <limit effort="100.0" lower="-1.4" upper="0.0" velocity="10.0"/>
  </joint>
  <joint name="office:arena:door_hinge_joint" type="fixed">
    <origin xyz="4.24 6.68 1.04" rpy="0.0 0.0 0.0"/>
    <axis xyz="0.0 0.0 0.0"/>
    <parent link="urdf_offset"/>
    <child link="office:arena:door_hinge"/>
    <limit effort="1.0" lower="0.0" upper="1.5708" velocity="1.0"/>
  </joint>
  <joint name="office:arena:door_handle_joint" type="revolute">
    <origin xyz="0.77 0.0 0.02" rpy="1.5707963267948966 0.0 0.0"/>
    <axis xyz="0.0 0.0 1.0"/>
    <parent link="office:arena:door_center"/>
    <child link="office:arena:door_handle_link"/>
    <limit effort="1.0" lower="0.0" upper="0.6283185307179586" velocity="1.0"/>
  </joint>
  <joint name="office:arena:door_handle_inside_joint" type="fixed">
    <origin xyz="-0.069 0.0 0.06" rpy="0.0 0.0 1.5707963267948966"/>
    <parent link="office:arena:door_handle_link"/>
    <child link="office:arena:door_handle_inside"/>
  </joint>
  <joint name="office:arena:door_handle_outside_joint" type="fixed">
    <origin xyz="-0.075 0.0 -0.05" rpy="0.0 0.0 -1.5707963267948966"/>
    <parent link="office:arena:door_handle_link"/>
    <child link="office:arena:door_handle_outside"/>
  </joint>
  <link name="dishwasher_main">
    <inertial>
      <origin xyz="0.0 0.0 0.0" rpy="0.0 0.0 0.0"/>
      <mass value="1.0"/>
      <inertia ixx="1.0" ixy="0.0" ixz="0.0" iyy="1.0" iyz="0.0" izz="1.0"/>
    </inertial>
  </link>
  <joint name="dishwasher_main" type="fixed">
    <origin xyz="10.5 4.77 0.0" rpy="0.0 0.0 3.19"/>
    <parent link="urdf_offset"/>
    <child link="dishwasher_main"/>
  </joint>
  <link name="sink_area_dish_washer_main">
    <inertial>
      <origin xyz="0.0 0.0 0.0" rpy="0.0 0.0 0.0"/>
      <mass value="1.0"/>
      <inertia ixx="1.0" ixy="0.0" ixz="0.0" iyy="1.0" iyz="0.0" izz="1.0"/>
    </inertial>
    <visual>
      <origin xyz="0.0 0.0 0.0" rpy="0.0 0.0 0.0"/>
      <geometry>
        <mesh filename="package://iai_kitchen/meshes/misc/DishWasher.obj"/>
      </geometry>
    </visual>
    <collision>
      <origin xyz="0.0 0.0 0.0" rpy="0.0 0.0 0.0"/>
      <geometry>
        <mesh filename="package://iai_kitchen/meshes/misc/DishWasher.obj"/>
      </geometry>
    </collision>
  </link>
  <link name="sink_area_dish_washer_door">
    <inertial>
      <origin xyz="0.0 0.0 0.0" rpy="0.0 0.0 0.0"/>
      <mass value="1.0"/>
      <inertia ixx="1.0" ixy="0.0" ixz="0.0" iyy="1.0" iyz="0.0" izz="1.0"/>
    </inertial>
    <visual>
      <origin xyz="0.0 0.0 0.0" rpy="1.57079632679 0.0 0.0"/>
      <geometry>
        <mesh filename="package://iai_kitchen/meshes/misc/DishWasherDoor.obj"/>
      </geometry>
    </visual>
    <collision>
      <origin xyz="0.0 0.0 0.0" rpy="1.57079632679 0.0 0.0"/>
      <geometry>
        <mesh filename="package://iai_kitchen/meshes/misc/DishWasherDoor.obj"/>
      </geometry>
    </collision>
  </link>
  <gazebo reference="sink_area_dish_washer_door">
    <turnGravityOff>true</turnGravityOff>
  </gazebo>
  <link name="sink_area_dish_washer_door_handle">
    <inertial>
      <origin xyz="0.1 0.0 0.0" rpy="0.0 0.0 0.0"/>
      <mass value="1.0"/>
      <inertia ixx="1.0" ixy="0.0" ixz="0.0" iyy="1.0" iyz="0.0" izz="1.0"/>
    </inertial>
    <visual>
      <origin xyz="0.01 0.0 0.0" rpy="0.0 0.0 0.0"/>
      <geometry>
        <mesh filename="package://iai_kitchen/meshes/handles/Handle60.obj"/>
      </geometry>
    </visual>
    <collision>
      <origin xyz="0.01 0.0 0.0" rpy="0.0 0.0 0.0"/>
      <geometry>
        <mesh filename="package://iai_kitchen/meshes/handles/Handle60.obj"/>
      </geometry>
    </collision>
  </link>
  <gazebo reference="sink_area_dish_washer_door_handle">
    <turnGravityOff>true</turnGravityOff>
  </gazebo>
  <link name="dishwasher_tab"/>
  <link name="dishwasher_table:d_table:table_origin"/>
  <link name="dishwasher_table:d_table:table_front_edge_center"/>
  <link name="dishwasher_table:d_table:table_center">
    <visual>
      <origin xyz="0.0 0.0 0.0" rpy="0.0 0.0 0.0"/>
      <geometry>
        <box size="0.593 0.6 0.02"/>
      </geometry>
      <material name="dishwasher_robocup_table_color"/>
    </visual>
    <collision>
      <origin xyz="0.0 0.0 0.0" rpy="0.0 0.0 0.0"/>
      <geometry>
        <box size="0.593 0.6 0.02"/>
      </geometry>
    </collision>
  </link>
  <joint name="dishwasher_tab_joint" type="fixed">
    <origin xyz="-0.1 0.1 0.15" rpy="0.0 0.0 0.0"/>
    <parent link="sink_area_dish_washer_door_handle"/>
    <child link="dishwasher_tab"/>
  </joint>
  <joint name="sink_area_dish_washer_main_joint" type="fixed">
    <origin xyz="0.0 0.0 0.44" rpy="0.0 0.0 0.0"/>
    <axis xyz="1.0 0.0 0.0"/>
    <parent link="dishwasher_main"/>
    <child link="sink_area_dish_washer_main"/>
  </joint>
  <joint name="sink_area_dish_washer_door_joint" type="revolute">
    <origin xyz="0.27 0.0 -0.325" rpy="-1.57079632679 0.03 0.0"/>
    <axis xyz="0.0 0.0 1.0"/>
    <parent link="sink_area_dish_washer_main"/>
    <child link="sink_area_dish_washer_door"/>
    <limit effort="300.0" lower="0.0" upper="1.57079632679" velocity="10.0"/>
  </joint>
  <joint name="sink_area_dish_washer_door_handle_joint" type="fixed">
    <origin xyz="0.0625 -0.6625 0.0" rpy="-1.57079632679 0.0 0.0"/>
    <parent link="sink_area_dish_washer_door"/>
    <child link="sink_area_dish_washer_door_handle"/>
  </joint>
  <joint name="dish_washer_table_main_joint" type="fixed">
    <origin xyz="0.0 0.0 0.3971" rpy="0.0 0.0 3.141592653589793"/>
    <parent link="sink_area_dish_washer_main"/>
    <child link="dishwasher_table:d_table:table_origin"/>
  </joint>
  <joint name="dish_washer_table_center_joint" type="fixed">
    <origin xyz="-0.3 0.0 0.0" rpy="0.0 0.0 0.0"/>
    <parent link="dishwasher_table:d_table:table_origin"/>
    <child link="dishwasher_table:d_table:table_front_edge_center"/>
  </joint>
  <joint name="dish_washer_table_edge_joint" type="fixed">
    <origin xyz="0.0 0.0 0.0" rpy="0.0 0.0 0.0"/>
    <parent link="dishwasher_table:d_table:table_origin"/>
    <child link="dishwasher_table:d_table:table_center"/>
  </joint>
  <link name="chair:desk_chair:chair_center">
    <visual>
      <origin xyz="0.0 0.0 0.0" rpy="0.0 0.0 0.0"/>
      <geometry>
        <box size="0.42 0.435 0.47"/>
      </geometry>
      <material name="chair_color"/>
    </visual>
    <collision>
      <origin xyz="0.0 0.0 0.0" rpy="0.0 0.0 0.0"/>
      <geometry>
        <box size="0.42 0.435 0.47"/>
      </geometry>
    </collision>
  </link>
  <link name="chair:desk_chair:chair_backrest">
    <visual>
      <origin xyz="0.0 0.0 0.0" rpy="0.0 0.0 0.0"/>
      <geometry>
        <box size="0.42 0.05 0.47"/>
      </geometry>
      <material name="chair_color"/>
    </visual>
    <collision>
      <origin xyz="0.0 0.0 0.0" rpy="0.0 0.0 0.0"/>
      <geometry>
        <box size="0.42 0.05 0.47"/>
      </geometry>
    </collision>
  </link>
  <link name="chair:desk_chair:chair_origin"/>
  <link name="chair:desk_chair:chair_front_edge_center"/>
  <joint name="chair:desk_chair:chair_origin_joint" type="fixed">
    <origin xyz="3.38 3.07 0.0" rpy="0.0 0.0 3.15"/>
    <parent link="urdf_offset"/>
    <child link="chair:desk_chair:chair_origin"/>
  </joint>
  <joint name="chair:desk_chair:center_joint" type="fixed">
    <origin xyz="0.0 0.0 0.235" rpy="0.0 0.0 0.0"/>
    <parent link="chair:desk_chair:chair_origin"/>
    <child link="chair:desk_chair:chair_center"/>
  </joint>
  <joint name="chair:desk_chair:chair_front_edge_center_joint" type="fixed">
    <origin xyz="0.0 0.2175 0.47" rpy="0.0 0.0 0.0"/>
    <parent link="chair:desk_chair:chair_origin"/>
    <child link="chair:desk_chair:chair_front_edge_center"/>
  </joint>
  <joint name="chair:desk_chair:chair_backrest_joint" type="fixed">
    <origin xyz="0.0 -0.1875 0.235" rpy="0.0 0.0 0.0"/>
    <parent link="chair:desk_chair:chair_center"/>
    <child link="chair:desk_chair:chair_backrest"/>
  </joint>
  <link name="chair:lounge_chair:chair_center">
    <visual>
      <origin xyz="0.0 0.0 0.0" rpy="0.0 0.0 0.0"/>
      <geometry>
        <box size="0.71 0.825 0.415"/>
      </geometry>
      <material name="chair_color"/>
    </visual>
    <collision>
      <origin xyz="0.0 0.0 0.0" rpy="0.0 0.0 0.0"/>
      <geometry>
        <box size="0.71 0.825 0.415"/>
      </geometry>
    </collision>
  </link>
  <link name="chair:lounge_chair:chair_backrest">
    <visual>
      <origin xyz="0.0 0.0 0.0" rpy="0.0 0.0 0.0"/>
      <geometry>
        <box size="0.71 0.05 0.415"/>
      </geometry>
      <material name="chair_color"/>
    </visual>
    <collision>
      <origin xyz="0.0 0.0 0.0" rpy="0.0 0.0 0.0"/>
      <geometry>
        <box size="0.71 0.05 0.415"/>
      </geometry>
    </collision>
  </link>
  <link name="chair:lounge_chair:chair_origin"/>
  <link name="chair:lounge_chair:chair_front_edge_center"/>
  <joint name="chair:lounge_chair:chair_origin_joint" type="fixed">
    <origin xyz="9.3 -1.54 0.0" rpy="0.0 0.0 -0.1"/>
    <parent link="urdf_offset"/>
    <child link="chair:lounge_chair:chair_origin"/>
  </joint>
  <joint name="chair:lounge_chair:center_joint" type="fixed">
    <origin xyz="0.0 0.0 0.2075" rpy="0.0 0.0 0.0"/>
    <parent link="chair:lounge_chair:chair_origin"/>
    <child link="chair:lounge_chair:chair_center"/>
  </joint>
  <joint name="chair:lounge_chair:chair_front_edge_center_joint" type="fixed">
    <origin xyz="0.0 0.4125 0.415" rpy="0.0 0.0 0.0"/>
    <parent link="chair:lounge_chair:chair_origin"/>
    <child link="chair:lounge_chair:chair_front_edge_center"/>
  </joint>
  <joint name="chair:lounge_chair:chair_backrest_joint" type="fixed">
    <origin xyz="0.0 -0.38249999999999995 0.2075" rpy="0.0 0.0 0.0"/>
    <parent link="chair:lounge_chair:chair_center"/>
    <child link="chair:lounge_chair:chair_backrest"/>
  </joint>
  <link name="shelf_hohc:kitchen_cabinet:shelf_origin"/>
  <link name="shelf_hohc:kitchen_cabinet:shelf_center"/>
  <link name="shelf_hohc:kitchen_cabinet:shelf_base_center"/>
  <joint name="shelf_hohc:kitchen_cabinet:shelf_origin_joint" type="fixed">
    <origin xyz="5.45 6.2 0.0" rpy="0.0 0.0 3.23"/>
    <parent link="urdf_offset"/>
    <child link="shelf_hohc:kitchen_cabinet:shelf_origin"/>
  </joint>
  <joint name="shelf_hohc:kitchen_cabinet:shelf_center_joint" type="fixed">
    <origin xyz="0.15 0.4 1.01" rpy="0.0 0.0 0.0"/>
    <parent link="shelf_hohc:kitchen_cabinet:shelf_origin"/>
    <child link="shelf_hohc:kitchen_cabinet:shelf_center"/>
  </joint>
  <joint name="shelf_hohc:kitchen_cabinet:shelf_base_center_joint" type="fixed">
    <origin xyz="0.15 0.4 0.0" rpy="0.0 0.0 0.0"/>
    <parent link="shelf_hohc:kitchen_cabinet:shelf_origin"/>
    <child link="shelf_hohc:kitchen_cabinet:shelf_base_center"/>
  </joint>
  <link name="shelf_hohc:kitchen_cabinet:shelf_back">
    <inertial>
      <origin xyz="0.0 0.0 0.0" rpy="0.0 0.0 0.0"/>
      <mass value="1.0"/>
      <inertia ixx="0.1" ixy="0.0" ixz="0.0" iyy="0.1" iyz="0.0" izz="0.1"/>
    </inertial>
    <visual>
      <origin xyz="0.0 0.0 0.0" rpy="0.0 0.0 0.0"/>
      <geometry>
        <box size="0.02 0.8 2.02"/>
      </geometry>
      <material name="shelf_blue"/>
    </visual>
    <collision>
      <origin xyz="0.0 0.0 0.0" rpy="0.0 0.0 0.0"/>
      <geometry>
        <box size="0.02 0.8 2.02"/>
      </geometry>
    </collision>
  </link>
  <joint name="shelf_hohc:kitchen_cabinet:shelf_back:joint" type="fixed">
    <origin xyz="0.3 0.4 1.01" rpy="0.0 0.0 0.0"/>
    <parent link="shelf_hohc:kitchen_cabinet:shelf_origin"/>
    <child link="shelf_hohc:kitchen_cabinet:shelf_back"/>
  </joint>
  <link name="shelf_hohc:kitchen_cabinet:shelf_right_side">
    <inertial>
      <origin xyz="0.0 0.0 0.0" rpy="0.0 0.0 0.0"/>
      <mass value="1.0"/>
      <inertia ixx="0.1" ixy="0.0" ixz="0.0" iyy="0.1" iyz="0.0" izz="0.1"/>
    </inertial>
    <visual>
      <origin xyz="0.0 0.0 0.0" rpy="0.0 0.0 0.0"/>
      <geometry>
        <box size="0.3 0.02 2.02"/>
      </geometry>
      <material name="shelf_blue"/>
    </visual>
    <collision>
      <origin xyz="0.0 0.0 0.0" rpy="0.0 0.0 0.0"/>
      <geometry>
        <box size="0.3 0.02 2.02"/>
      </geometry>
    </collision>
  </link>
  <joint name="shelf_hohc:kitchen_cabinet:shelf_right_side:joint" type="fixed">
    <origin xyz="0.15 0.01 1.01" rpy="0.0 0.0 0.0"/>
    <parent link="shelf_hohc:kitchen_cabinet:shelf_origin"/>
    <child link="shelf_hohc:kitchen_cabinet:shelf_right_side"/>
  </joint>
  <link name="shelf_hohc:kitchen_cabinet:shelf_left_side">
    <inertial>
      <origin xyz="0.0 0.0 0.0" rpy="0.0 0.0 0.0"/>
      <mass value="1.0"/>
      <inertia ixx="0.1" ixy="0.0" ixz="0.0" iyy="0.1" iyz="0.0" izz="0.1"/>
    </inertial>
    <visual>
      <origin xyz="0.0 0.0 0.0" rpy="0.0 0.0 0.0"/>
      <geometry>
        <box size="0.3 0.02 2.02"/>
      </geometry>
      <material name="shelf_blue"/>
    </visual>
    <collision>
      <origin xyz="0.0 0.0 0.0" rpy="0.0 0.0 0.0"/>
      <geometry>
        <box size="0.3 0.02 2.02"/>
      </geometry>
    </collision>
  </link>
  <joint name="shelf_hohc:kitchen_cabinet:shelf_left_side:joint" type="fixed">
    <origin xyz="0.15 0.79 1.01" rpy="0.0 0.0 0.0"/>
    <parent link="shelf_hohc:kitchen_cabinet:shelf_origin"/>
    <child link="shelf_hohc:kitchen_cabinet:shelf_left_side"/>
  </joint>
  <link name="shelf_hohc:kitchen_cabinet:shelf_floor_0">
    <inertial>
      <origin xyz="0.0 0.0 0.0" rpy="0.0 0.0 0.0"/>
      <mass value="1.0"/>
      <inertia ixx="0.1" ixy="0.0" ixz="0.0" iyy="0.1" iyz="0.0" izz="0.1"/>
    </inertial>
    <visual>
      <origin xyz="0.0 0.0 -0.02" rpy="0.0 0.0 0.0"/>
      <geometry>
        <box size="0.3 0.8 0.04"/>
      </geometry>
      <material name="shelf_blue"/>
    </visual>
    <collision>
      <origin xyz="0.0 0.0 -0.02" rpy="0.0 0.0 0.0"/>
      <geometry>
        <box size="0.3 0.8 0.04"/>
      </geometry>
    </collision>
  </link>
  <joint name="shelf_hohc:kitchen_cabinet:shelf_floor_0:joint" type="fixed">
    <origin xyz="0.0 0.0 0.09" rpy="0.0 0.0 0.0"/>
    <parent link="shelf_hohc:kitchen_cabinet:shelf_base_center"/>
    <child link="shelf_hohc:kitchen_cabinet:shelf_floor_0"/>
  </joint>
  <link name="shelf_hohc:kitchen_cabinet:shelf_floor_1">
    <inertial>
      <origin xyz="0.0 0.0 0.0" rpy="0.0 0.0 0.0"/>
      <mass value="1.0"/>
      <inertia ixx="0.1" ixy="0.0" ixz="0.0" iyy="0.1" iyz="0.0" izz="0.1"/>
    </inertial>
    <visual>
      <origin xyz="0.0 0.0 -0.02" rpy="0.0 0.0 0.0"/>
      <geometry>
        <box size="0.3 0.8 0.04"/>
      </geometry>
      <material name="shelf_blue"/>
    </visual>
    <collision>
      <origin xyz="0.0 0.0 -0.02" rpy="0.0 0.0 0.0"/>
      <geometry>
        <box size="0.3 0.8 0.04"/>
      </geometry>
    </collision>
  </link>
  <joint name="shelf_hohc:kitchen_cabinet:shelf_floor_1:joint" type="fixed">
    <origin xyz="0.0 0.0 0.4" rpy="0.0 0.0 0.0"/>
    <parent link="shelf_hohc:kitchen_cabinet:shelf_base_center"/>
    <child link="shelf_hohc:kitchen_cabinet:shelf_floor_1"/>
  </joint>
  <link name="shelf_hohc:kitchen_cabinet:shelf_floor_2">
    <inertial>
      <origin xyz="0.0 0.0 0.0" rpy="0.0 0.0 0.0"/>
      <mass value="1.0"/>
      <inertia ixx="0.1" ixy="0.0" ixz="0.0" iyy="0.1" iyz="0.0" izz="0.1"/>
    </inertial>
    <visual>
      <origin xyz="0.0 0.0 -0.02" rpy="0.0 0.0 0.0"/>
      <geometry>
        <box size="0.3 0.8 0.04"/>
      </geometry>
      <material name="shelf_blue"/>
    </visual>
    <collision>
      <origin xyz="0.0 0.0 -0.02" rpy="0.0 0.0 0.0"/>
      <geometry>
        <box size="0.3 0.8 0.04"/>
      </geometry>
    </collision>
  </link>
  <joint name="shelf_hohc:kitchen_cabinet:shelf_floor_2:joint" type="fixed">
    <origin xyz="0.0 0.0 0.72" rpy="0.0 0.0 0.0"/>
    <parent link="shelf_hohc:kitchen_cabinet:shelf_base_center"/>
    <child link="shelf_hohc:kitchen_cabinet:shelf_floor_2"/>
  </joint>
  <link name="shelf_hohc:kitchen_cabinet:shelf_floor_3">
    <inertial>
      <origin xyz="0.0 0.0 0.0" rpy="0.0 0.0 0.0"/>
      <mass value="1.0"/>
      <inertia ixx="0.1" ixy="0.0" ixz="0.0" iyy="0.1" iyz="0.0" izz="0.1"/>
    </inertial>
    <visual>
      <origin xyz="0.0 0.0 -0.02" rpy="0.0 0.0 0.0"/>
      <geometry>
        <box size="0.3 0.8 0.04"/>
      </geometry>
      <material name="shelf_blue"/>
    </visual>
    <collision>
      <origin xyz="0.0 0.0 -0.02" rpy="0.0 0.0 0.0"/>
      <geometry>
        <box size="0.3 0.8 0.04"/>
      </geometry>
    </collision>
  </link>
  <joint name="shelf_hohc:kitchen_cabinet:shelf_floor_3:joint" type="fixed">
    <origin xyz="0.0 0.0 1.045" rpy="0.0 0.0 0.0"/>
    <parent link="shelf_hohc:kitchen_cabinet:shelf_base_center"/>
    <child link="shelf_hohc:kitchen_cabinet:shelf_floor_3"/>
  </joint>
  <link name="shelf_hohc:kitchen_cabinet:shelf_floor_4">
    <inertial>
      <origin xyz="0.0 0.0 0.0" rpy="0.0 0.0 0.0"/>
      <mass value="1.0"/>
      <inertia ixx="0.1" ixy="0.0" ixz="0.0" iyy="0.1" iyz="0.0" izz="0.1"/>
    </inertial>
    <visual>
      <origin xyz="0.0 0.0 -0.02" rpy="0.0 0.0 0.0"/>
      <geometry>
        <box size="0.3 0.8 0.04"/>
      </geometry>
      <material name="shelf_blue"/>
    </visual>
    <collision>
      <origin xyz="0.0 0.0 -0.02" rpy="0.0 0.0 0.0"/>
      <geometry>
        <box size="0.3 0.8 0.04"/>
      </geometry>
    </collision>
  </link>
  <joint name="shelf_hohc:kitchen_cabinet:shelf_floor_4:joint" type="fixed">
    <origin xyz="0.0 0.0 1.4" rpy="0.0 0.0 0.0"/>
    <parent link="shelf_hohc:kitchen_cabinet:shelf_base_center"/>
    <child link="shelf_hohc:kitchen_cabinet:shelf_floor_4"/>
  </joint>
  <link name="shelf_hohc:kitchen_cabinet:shelf_floor_5">
    <inertial>
      <origin xyz="0.0 0.0 0.0" rpy="0.0 0.0 0.0"/>
      <mass value="1.0"/>
      <inertia ixx="0.1" ixy="0.0" ixz="0.0" iyy="0.1" iyz="0.0" izz="0.1"/>
    </inertial>
    <visual>
      <origin xyz="0.0 0.0 -0.02" rpy="0.0 0.0 0.0"/>
      <geometry>
        <box size="0.3 0.8 0.04"/>
      </geometry>
      <material name="shelf_blue"/>
    </visual>
    <collision>
      <origin xyz="0.0 0.0 -0.02" rpy="0.0 0.0 0.0"/>
      <geometry>
        <box size="0.3 0.8 0.04"/>
      </geometry>
    </collision>
  </link>
  <joint name="shelf_hohc:kitchen_cabinet:shelf_floor_5:joint" type="fixed">
    <origin xyz="0.0 0.0 1.685" rpy="0.0 0.0 0.0"/>
    <parent link="shelf_hohc:kitchen_cabinet:shelf_base_center"/>
    <child link="shelf_hohc:kitchen_cabinet:shelf_floor_5"/>
  </joint>
  <link name="shelf_hohc:kitchen_cabinet:shelf_floor_6">
    <inertial>
      <origin xyz="0.0 0.0 0.0" rpy="0.0 0.0 0.0"/>
      <mass value="1.0"/>
      <inertia ixx="0.1" ixy="0.0" ixz="0.0" iyy="0.1" iyz="0.0" izz="0.1"/>
    </inertial>
    <visual>
      <origin xyz="0.0 0.0 -0.02" rpy="0.0 0.0 0.0"/>
      <geometry>
        <box size="0.3 0.8 0.04"/>
      </geometry>
      <material name="shelf_blue"/>
    </visual>
    <collision>
      <origin xyz="0.0 0.0 -0.02" rpy="0.0 0.0 0.0"/>
      <geometry>
        <box size="0.3 0.8 0.04"/>
      </geometry>
    </collision>
  </link>
  <joint name="shelf_hohc:kitchen_cabinet:shelf_floor_6:joint" type="fixed">
    <origin xyz="0.0 0.0 2.015" rpy="0.0 0.0 0.0"/>
    <parent link="shelf_hohc:kitchen_cabinet:shelf_base_center"/>
    <child link="shelf_hohc:kitchen_cabinet:shelf_floor_6"/>
  </joint>
  <link name="shelf_hohc:kitchen_cabinet:shelf_door_right">
    <inertial>
      <origin xyz="0.0 0.0 0.0" rpy="0.0 0.0 0.0"/>
      <mass value="1.0"/>
      <inertia ixx="0.1" ixy="0.0" ixz="0.0" iyy="0.1" iyz="0.0" izz="0.1"/>
    </inertial>
    <visual>
      <origin xyz="0.0 0.18 0.0" rpy="0.0 0.0 0.0"/>
      <geometry>
        <box size="0.02 0.38 0.97"/>
      </geometry>
      <material name="shelf_door_green"/>
    </visual>
    <collision>
      <origin xyz="0.0 0.18 0.0" rpy="0.0 0.0 0.0"/>
      <geometry>
        <box size="0.02 0.38 0.97"/>
      </geometry>
    </collision>
  </link>
  <link name="shelf_hohc:kitchen_cabinet:shelf_door_right:handle">
    <inertial>
      <origin xyz="0.0 0.0 0.0" rpy="0.0 0.0 0.0"/>
      <mass value="1.0"/>
      <inertia ixx="0.1" ixy="0.0" ixz="0.0" iyy="0.1" iyz="0.0" izz="0.1"/>
    </inertial>
    <visual>
      <origin xyz="0.0 0.0 0.0" rpy="0.0 0.0 0.0"/>
      <geometry>
        <box size="0.035 0.005 0.135"/>
      </geometry>
      <material name="shelf_hohc_handle_red"/>
    </visual>
    <collision>
      <origin xyz="0.0 0.0 0.0" rpy="0.0 0.0 0.0"/>
      <geometry>
        <box size="0.035 0.005 0.135"/>
      </geometry>
    </collision>
  </link>
  <joint name="shelf_hohc:kitchen_cabinet:shelf_door_right:handle_joint" type="fixed">
    <origin xyz="-0.037500000000000006 0.3525 0.15249999999999997" rpy="0.0 0.0 0.0"/>
    <axis xyz="0.0 0.0 1.0"/>
    <parent link="shelf_hohc:kitchen_cabinet:shelf_door_right"/>
    <child link="shelf_hohc:kitchen_cabinet:shelf_door_right:handle"/>
  </joint>
  <joint name="shelf_hohc:kitchen_cabinet:shelf_door_right:joint" type="revolute">
    <origin xyz="-0.13999999999999999 0.02 -0.48" rpy="0.0 0.0 1.77"/>
    <axis xyz="0.0 0.0 1.0"/>
    <parent link="shelf_hohc:kitchen_cabinet:shelf_right_side"/>
    <child link="shelf_hohc:kitchen_cabinet:shelf_door_right"/>
    <limit effort="30.0" lower="0.0" upper="1.7" velocity="1.0"/>
  </joint>
  <link name="shelf_hohc:kitchen_cabinet:shelf_door_left">
    <inertial>
      <origin xyz="0.0 0.0 0.0" rpy="0.0 0.0 0.0"/>
      <mass value="1.0"/>
      <inertia ixx="0.1" ixy="0.0" ixz="0.0" iyy="0.1" iyz="0.0" izz="0.1"/>
    </inertial>
    <visual>
      <origin xyz="0.0 -0.18 0.0" rpy="0.0 0.0 0.0"/>
      <geometry>
        <box size="0.02 0.38 0.97"/>
      </geometry>
      <material name="shelf_door_green"/>
    </visual>
    <collision>
      <origin xyz="0.0 -0.18 0.0" rpy="0.0 0.0 0.0"/>
      <geometry>
        <box size="0.02 0.38 0.97"/>
      </geometry>
    </collision>
  </link>
  <link name="shelf_hohc:kitchen_cabinet:shelf_door_left:handle">
    <inertial>
      <origin xyz="0.0 0.0 0.0" rpy="0.0 0.0 0.0"/>
      <mass value="1.0"/>
      <inertia ixx="0.1" ixy="0.0" ixz="0.0" iyy="0.1" iyz="0.0" izz="0.1"/>
    </inertial>
    <visual>
      <origin xyz="0.0 0.0 0.0" rpy="0.0 0.0 0.0"/>
      <geometry>
        <box size="0.035 0.005 0.135"/>
      </geometry>
      <material name="shelf_hohc_handle_red"/>
    </visual>
    <collision>
      <origin xyz="0.0 0.0 0.0" rpy="0.0 0.0 0.0"/>
      <geometry>
        <box size="0.035 0.005 0.135"/>
      </geometry>
    </collision>
  </link>
  <joint name="shelf_hohc:kitchen_cabinet:shelf_door_left:handle_joint" type="fixed">
    <origin xyz="-0.037500000000000006 -0.3525 0.15249999999999997" rpy="0.0 0.0 0.0"/>
    <axis xyz="0.0 0.0 1.0"/>
    <parent link="shelf_hohc:kitchen_cabinet:shelf_door_left"/>
    <child link="shelf_hohc:kitchen_cabinet:shelf_door_left:handle"/>
  </joint>
  <joint name="shelf_hohc:kitchen_cabinet:shelf_door_left:joint" type="revolute">
    <origin xyz="-0.13999999999999999 -0.02 -0.48" rpy="0.0 0.0 -1.77"/>
    <axis xyz="0.0 0.0 1.0"/>
    <parent link="shelf_hohc:kitchen_cabinet:shelf_left_side"/>
    <child link="shelf_hohc:kitchen_cabinet:shelf_door_left"/>
    <limit effort="30.0" lower="-1.7" upper="0.0" velocity="1.0"/>
  </joint>
  <link name="trashcan:trashcan:trashcan_center">
    <inertial>
      <origin xyz="0.0 0.0 0.0" rpy="0.0 0.0 0.0"/>
      <mass value="1.0"/>
      <inertia ixx="0.1" ixy="0.0" ixz="0.0" iyy="0.1" iyz="0.0" izz="0.1"/>
    </inertial>
    <visual>
      <origin xyz="0.0 0.0 -0.245" rpy="0.0 0.0 0.0"/>
      <geometry>
        <cylinder radius="0.19" length="0.49"/>
      </geometry>
      <material name="trashcan_color"/>
    </visual>
    <collision>
      <origin xyz="0.0 0.0 -0.245" rpy="0.0 0.0 0.0"/>
      <geometry>
        <cylinder radius="0.19" length="0.49"/>
      </geometry>
    </collision>
  </link>
  <link name="trashcan:trashcan:trashcan_origin"/>
  <link name="trashcan:trashcan:trashcan_front_edge_center"/>
  <joint name="trashcan:trashcan:trashcan_origin_joint" type="fixed">
    <origin xyz="5.86 2.03 0.0" rpy="0.0 0.0 3.2"/>
    <parent link="urdf_offset"/>
    <child link="trashcan:trashcan:trashcan_origin"/>
  </joint>
  <joint name="trashcan:trashcan:center_joint" type="fixed">
    <origin xyz="0.19 0.0 0.49" rpy="0.0 0.0 0.0"/>
    <parent link="trashcan:trashcan:trashcan_origin"/>
    <child link="trashcan:trashcan:trashcan_center"/>
  </joint>
  <joint name="trashcan:trashcan:trashcan_front_edge_center_joint" type="fixed">
    <origin xyz="0.0 0.0 0.49" rpy="0.0 0.0 0.0"/>
    <parent link="trashcan:trashcan:trashcan_origin"/>
    <child link="trashcan:trashcan:trashcan_front_edge_center"/>
  </joint>
  <link name="coathanger:coathanger:coathanger_center">
    <inertial>
      <origin xyz="0.0 0.0 0.0" rpy="0.0 0.0 0.0"/>
      <mass value="1.0"/>
      <inertia ixx="0.1" ixy="0.0" ixz="0.0" iyy="0.1" iyz="0.0" izz="0.1"/>
    </inertial>
    <visual>
      <origin xyz="0.0 0.0 -0.9" rpy="0.0 0.0 0.0"/>
      <geometry>
        <box size="0.5 0.5 1.8"/>
      </geometry>
      <material name="coathanger_color"/>
    </visual>
    <collision>
      <origin xyz="0.0 0.0 -0.9" rpy="0.0 0.0 0.0"/>
      <geometry>
        <box size="0.5 0.5 1.8"/>
      </geometry>
    </collision>
  </link>
  <link name="coathanger:coathanger:coathanger_origin"/>
  <link name="coathanger:coathanger:coathanger_front_edge_center"/>
  <joint name="coathanger:coathanger:coathanger_origin_joint" type="fixed">
    <origin xyz="3.9 1.55 0.0" rpy="0.0 0.0 3.17"/>
    <parent link="urdf_offset"/>
    <child link="coathanger:coathanger:coathanger_origin"/>
  </joint>
  <joint name="coathanger:coathanger:center_joint" type="fixed">
    <origin xyz="0.25 0.25 1.8" rpy="0.0 0.0 0.0"/>
    <parent link="coathanger:coathanger:coathanger_origin"/>
    <child link="coathanger:coathanger:coathanger_center"/>
  </joint>
  <joint name="coathanger:coathanger:coathanger_front_edge_center_joint" type="fixed">
    <origin xyz="0.0 0.25 1.8" rpy="0.0 0.0 0.0"/>
    <parent link="coathanger:coathanger:coathanger_origin"/>
    <child link="coathanger:coathanger:coathanger_front_edge_center"/>
  </joint>
  <link name="lamp:lamp:lamp_center">
    <inertial>
      <origin xyz="0.0 0.0 0.0" rpy="0.0 0.0 0.0"/>
      <mass value="1.0"/>
      <inertia ixx="0.1" ixy="0.0" ixz="0.0" iyy="0.1" iyz="0.0" izz="0.1"/>
    </inertial>
    <visual>
      <origin xyz="0.0 0.0 -0.9" rpy="0.0 0.0 0.0"/>
      <geometry>
        <cylinder radius="0.09" length="1.8"/>
      </geometry>
      <material name="lamp_color"/>
    </visual>
    <collision>
      <origin xyz="0.0 0.0 -0.9" rpy="0.0 0.0 0.0"/>
      <geometry>
        <cylinder radius="0.09" length="1.8"/>
      </geometry>
    </collision>
  </link>
  <link name="lamp:lamp:lamp_origin"/>
  <link name="lamp:lamp:lamp_front_edge_center"/>
  <joint name="lamp:lamp:lamp_origin_joint" type="fixed">
    <origin xyz="10.7 -1.6 0.0" rpy="0.0 0.0 0.0"/>
    <parent link="urdf_offset"/>
    <child link="lamp:lamp:lamp_origin"/>
  </joint>
  <joint name="lamp:lamp:center_joint" type="fixed">
    <origin xyz="0.09 0.0 1.8" rpy="0.0 0.0 0.0"/>
    <parent link="lamp:lamp:lamp_origin"/>
    <child link="lamp:lamp:lamp_center"/>
  </joint>
  <joint name="lamp:lamp:lamp_front_edge_center_joint" type="fixed">
    <origin xyz="0.0 0.0 1.8" rpy="0.0 0.0 0.0"/>
    <parent link="lamp:lamp:lamp_origin"/>
    <child link="lamp:lamp:lamp_front_edge_center"/>
  </joint>
  <link name="urdf_main"/>
  <joint name="map_urdf_joint" type="fixed">
    <origin xyz="0.0 0.0 0.0" rpy="0.0 0.0 0.0"/>
    <parent link="urdf_main"/>
    <child link="urdf_offset"/>
  </joint>
  <link name="urdf_offset"/>
</robot>
